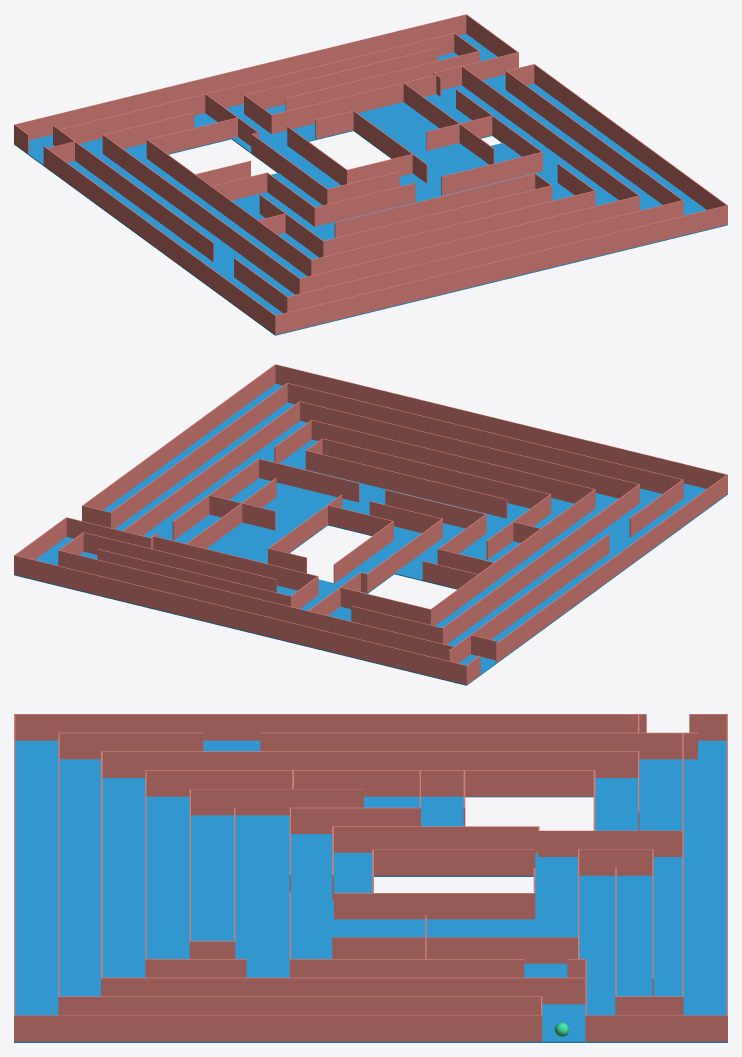
File: Labirinto.fbx
The picture shows the model from 3 angles, top to bottom: view 1: azimuth 30°, elevation 25°; view 2: azimuth 150°, elevation 25°; view 3: azimuth 270°, elevation 25°; orthographic projection. The views are drawn at different scales.
Visible parts, largest first — view 1: Cube; view 2: Cube; view 3: Cube.
Part boxes in pixels (left/top/right/bottom): Cube: left=14, top=14, right=727, bottom=335; Cube: left=14, top=364, right=727, bottom=685; Cube: left=14, top=714, right=727, bottom=1042.
Bounding box in the file's own units: 5000 × 210 × 5000.
